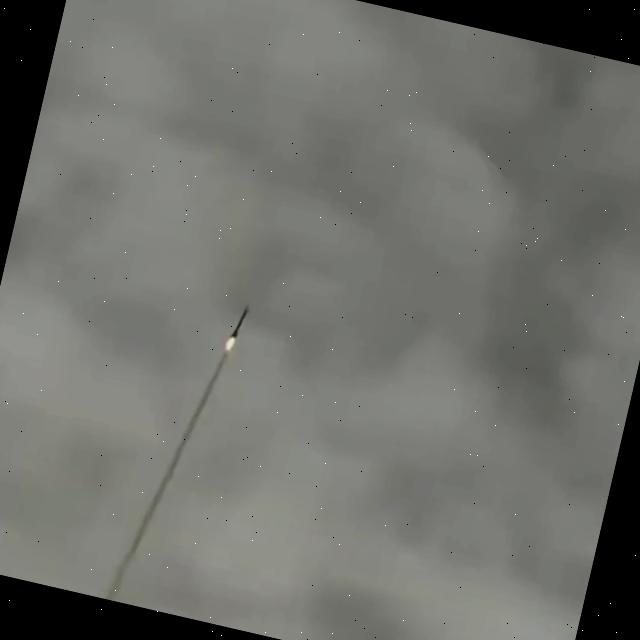smoke_trail_with_rocket: (103, 304, 249, 601)
